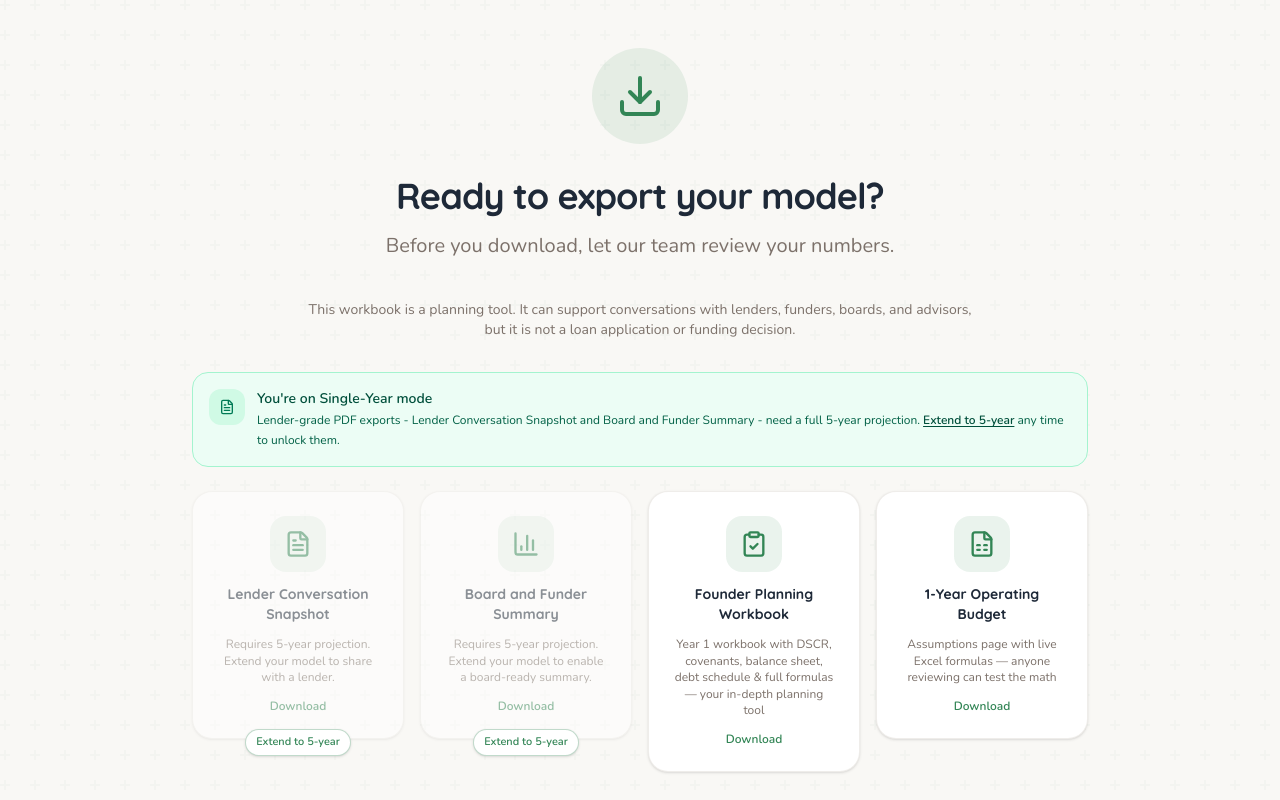
Scenario: ExportStep — Extend modal honors edited growth rates › pre-fills the modal with the form's resolved rates
Step 1. Click the button with test id "single-year-banner-extend" → (969, 421), box [923,411,1014,430]
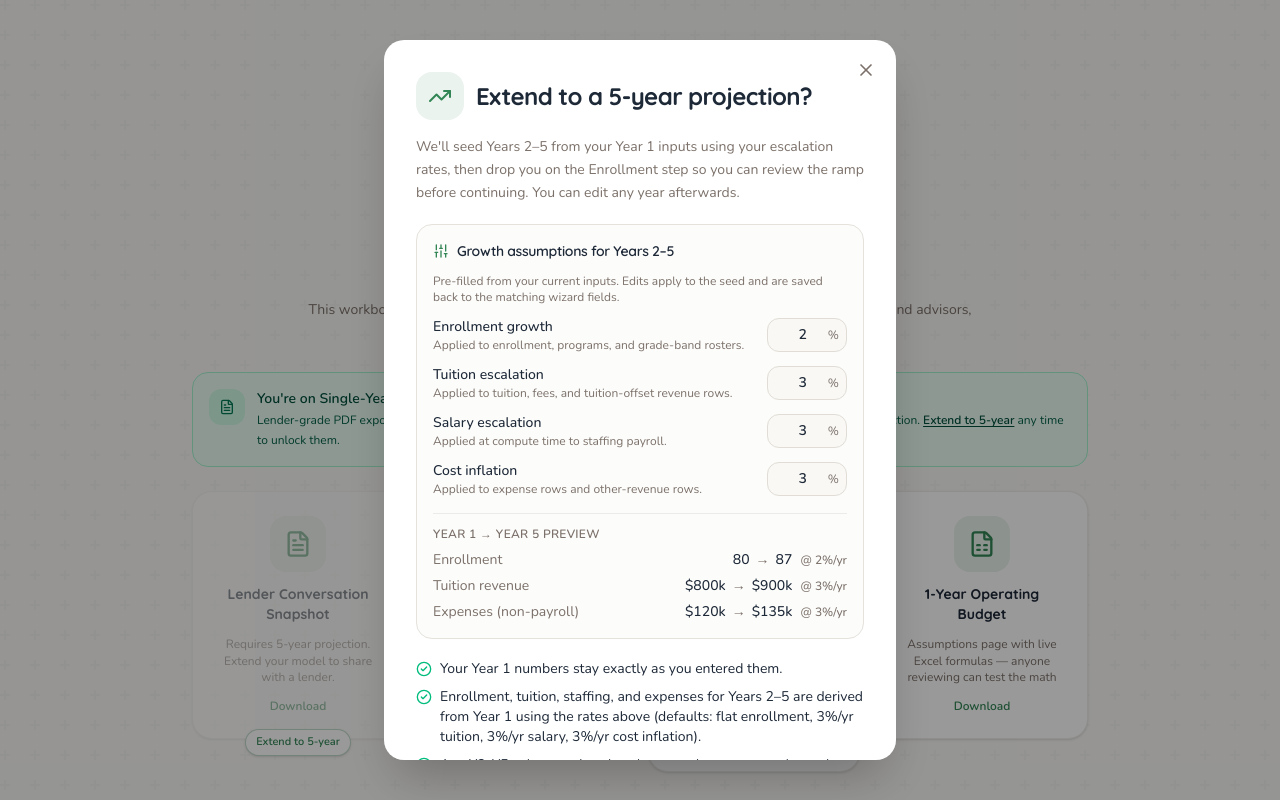
Expected: the number field with test id "extend-rate-enrollment" holds "2", [767,318,847,352]
Expected: the number field with test id "extend-rate-tuition" holds "3", [767,366,847,400]
Expected: the number field with test id "extend-rate-salary" holds "3", [767,414,847,448]
